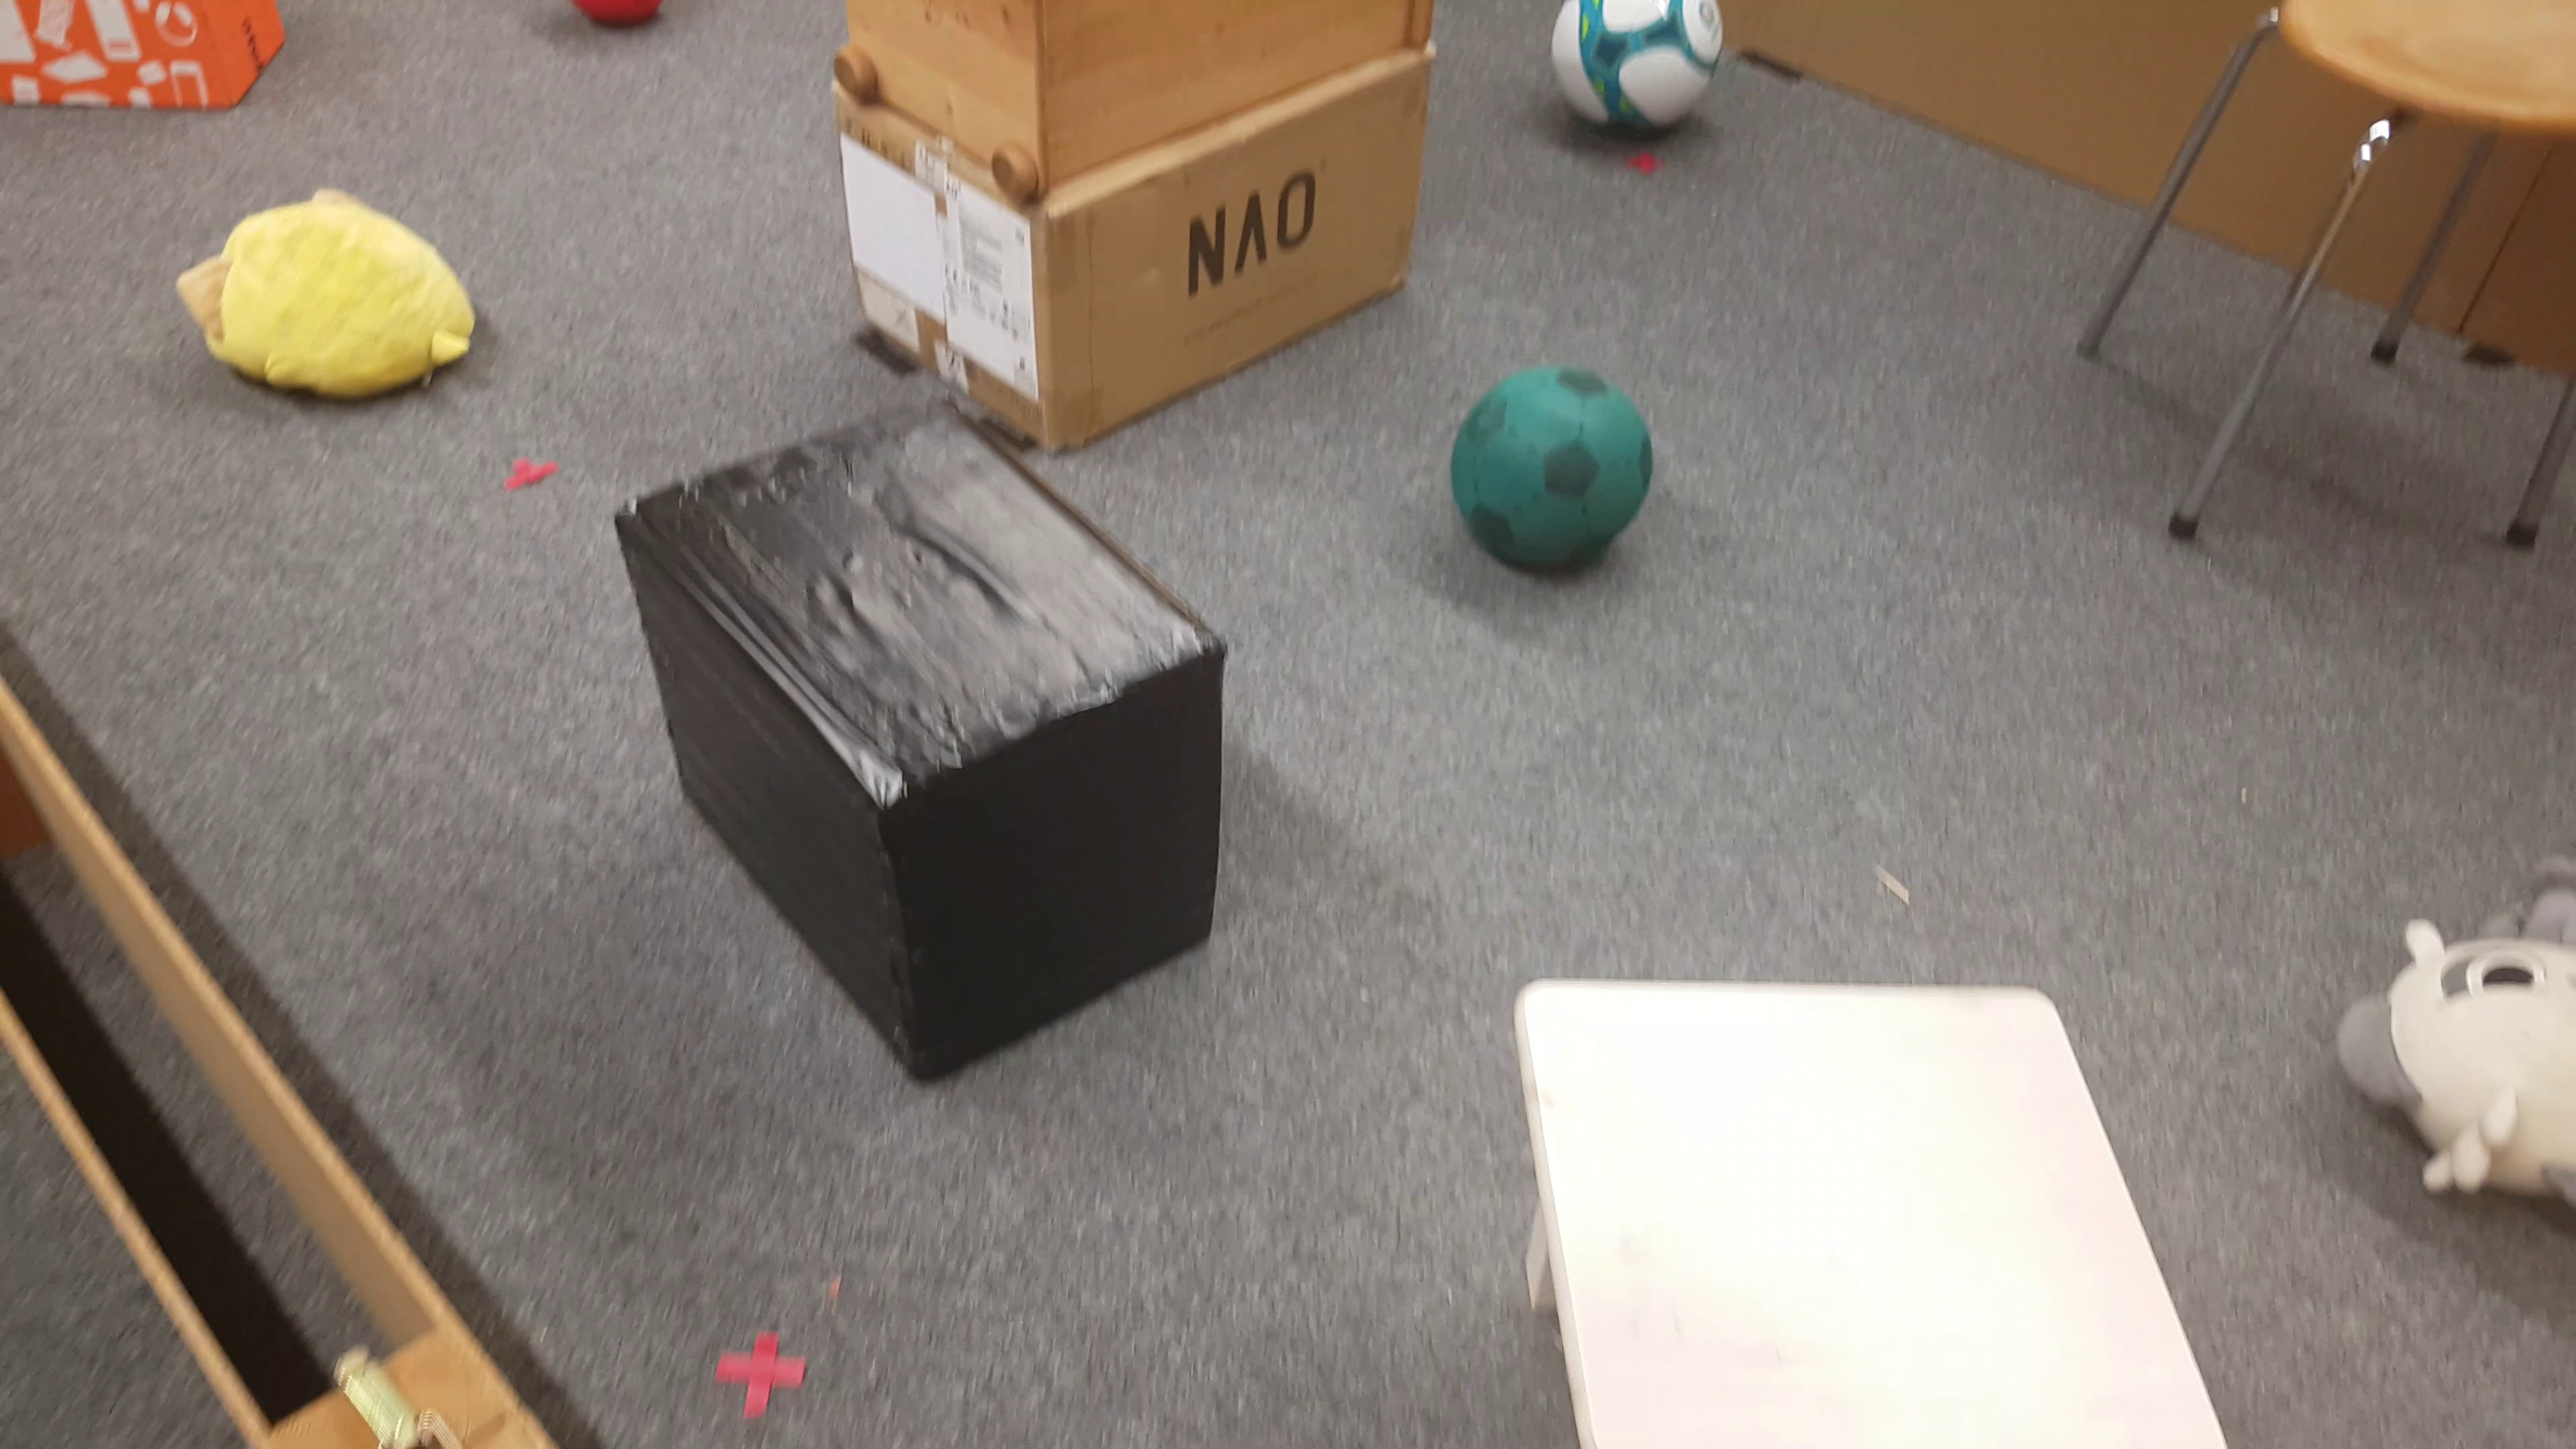grasp: (2335, 844, 2576, 1214), (179, 184, 478, 396)
kick: (1458, 366, 1658, 584), (1553, 4, 1723, 142), (579, 4, 669, 42)
push: (610, 405, 1228, 1081), (0, 9, 292, 126)
